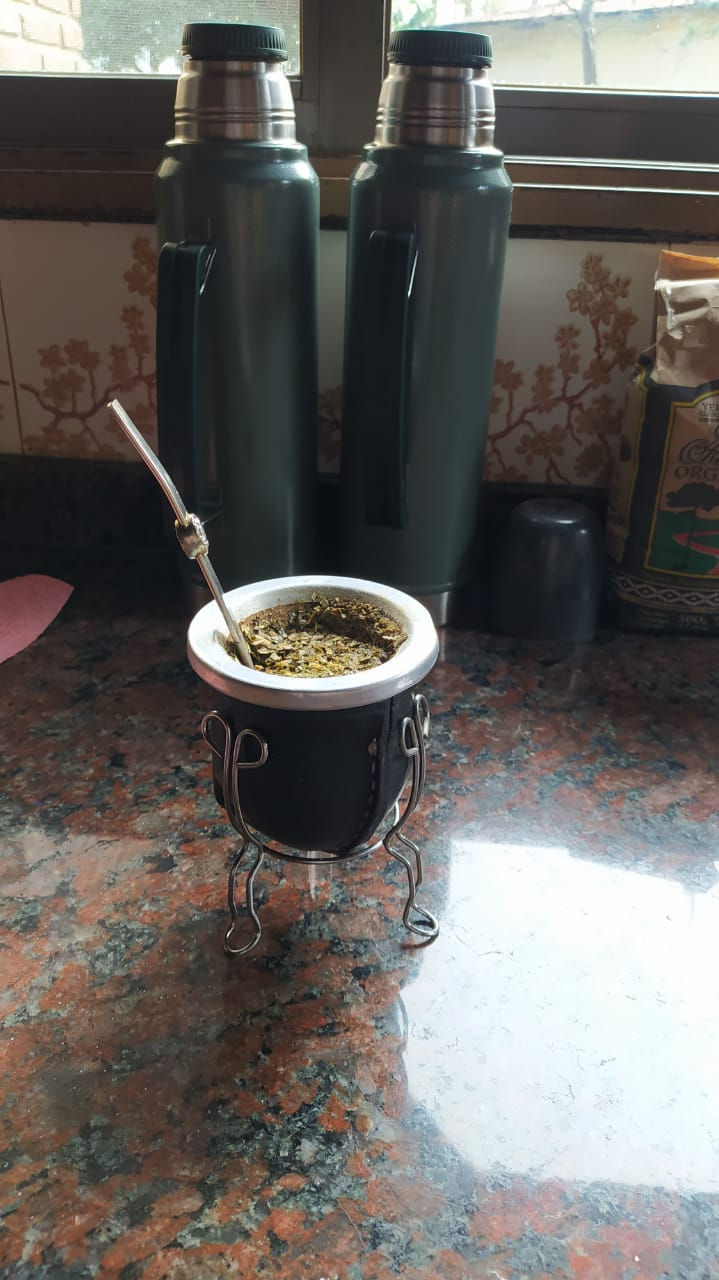madera: (103, 398, 467, 960)
mate: (101, 396, 465, 958)
